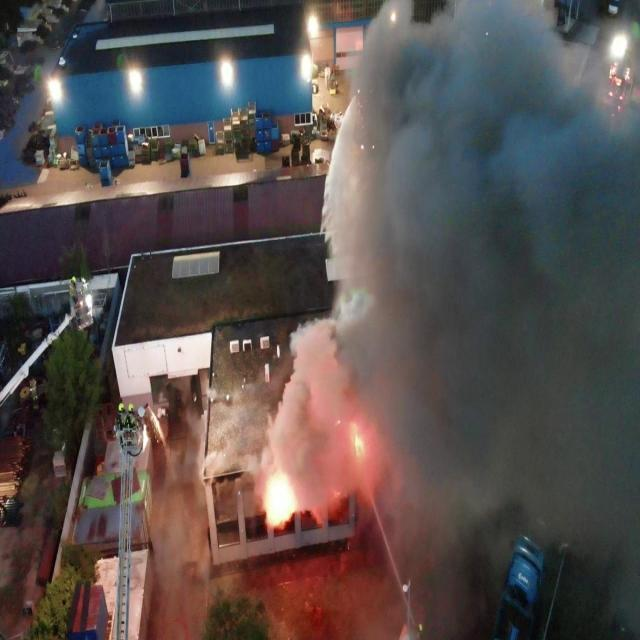Fire: (264, 470, 296, 526), (354, 435, 364, 458)
Smoke: (200, 0, 640, 579)
